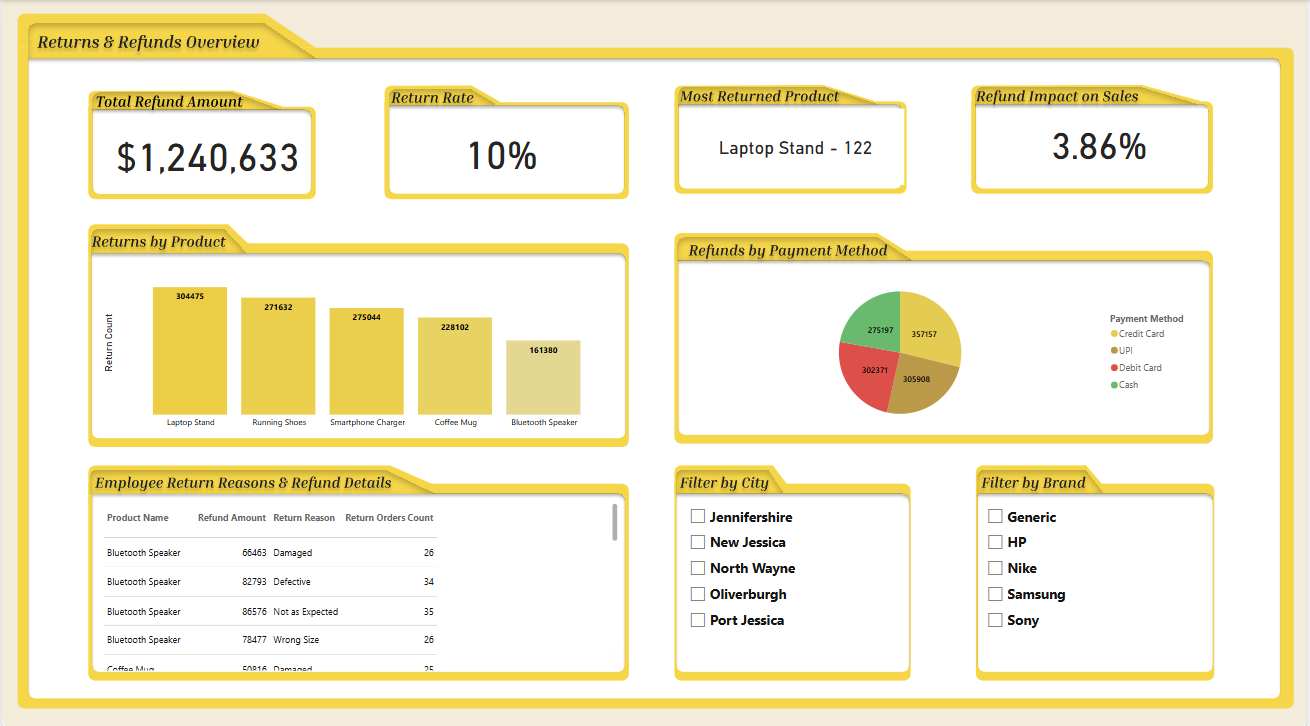

Layout of this report page (visuals, bound fields, positions):
{"tool":"powerbi","page":{"name":"Returns & Refunds Dashboard","canvas":[1920,1080],"ordinal":9},"visuals":[{"type":"card","title":"Gross Sales","fields":{"Values":["public returns_data.Returned Amt"]},"box":[144,176,320,96],"z":0},{"type":"card","title":"Gross Sales","fields":{"Values":["public sales_data.Return Rate (6years)"]},"box":[608,176,256,88],"z":1000},{"type":"card","title":"Gross Sales","fields":{"Values":["public returns_data.MostFrequentReturnedProduct"]},"box":[1008,160,320,112],"z":2000},{"type":"tableEx","title":"Gross Sales","fields":{"Values":["public product_data.product_name","Sum(public returns_data.refund_amount)","public returns_data.return_reason","public returns_data.Return Orders Count"]},"box":[144,736,768,256],"z":3000},{"type":"slicer","fields":{"Values":["public product_data.brand"]},"box":[1440,736,336,240],"z":4000},{"type":"pieChart","title":"Total Suppliers by City ","fields":{"Y":["Sum(public returns_data.refund_amount)"],"Category":["public sales_data.payment_method"]},"box":[1008,400,752,240],"z":5000},{"type":"slicer","fields":{"Values":["LocationDim.city"]},"box":[1001,736,320,240],"z":6000},{"type":"card","fields":{"Values":["public returns_data.Refund Impact (%)"]},"box":[1456,160,320,96],"z":7000},{"type":"clusteredColumnChart","fields":{"Y":["public returns_data.Return Count"],"Category":["public returns_data.ProductName"]},"box":[144,384,768,256],"z":8000}]}

Visuals, with their boxes in screenshot pixels (x1, y1, x2, y2), scaled from the page's 1920x1080 canvas onto the 1310x726 screenshot:
"Gross Sales" card: 98/118/317/183
"Gross Sales" card: 415/118/590/177
"Gross Sales" card: 688/108/906/183
"Gross Sales" tableEx: 98/495/622/667
slicer - public product_data.brand: 982/495/1212/656
"Total Suppliers by City " pieChart: 688/269/1201/430
slicer - LocationDim.city: 683/495/901/656
card - public returns_data.Refund Impact (%): 993/108/1212/172
clusteredColumnChart - public returns_data.Return Count x public returns_data.ProductName: 98/258/622/430
